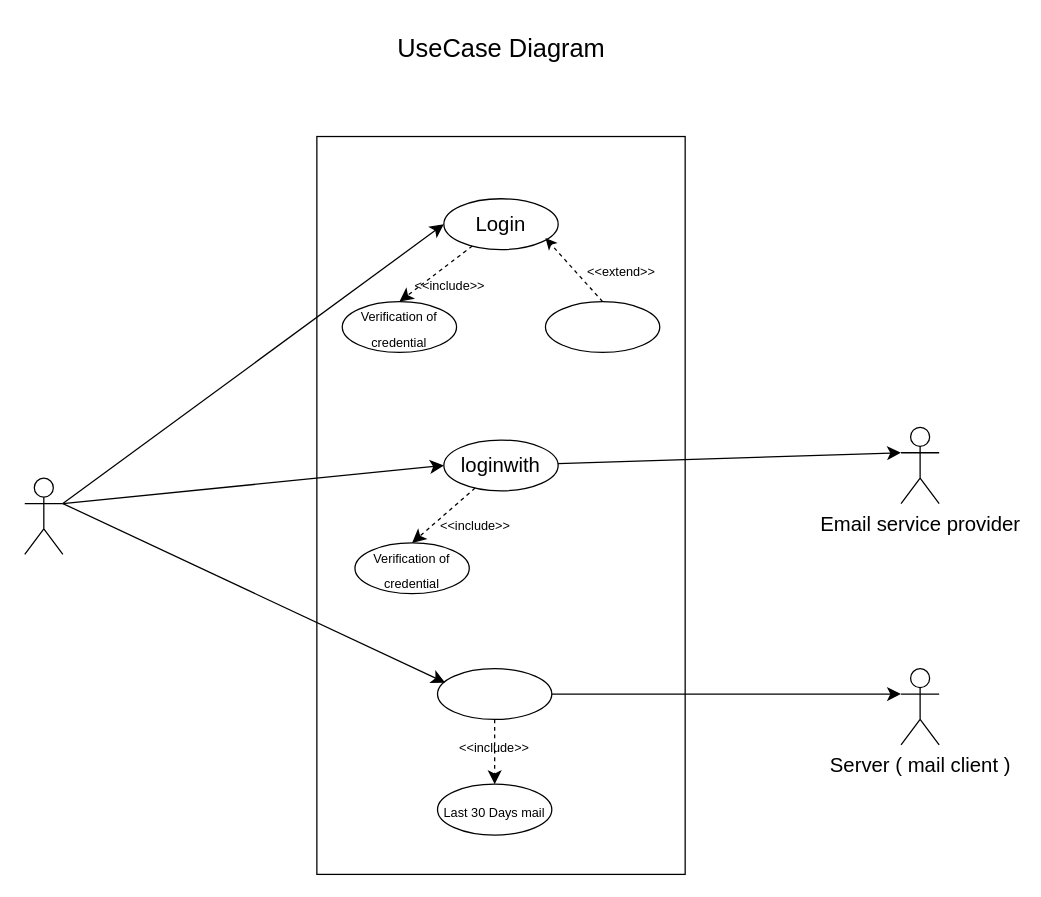
This 1041x897 diagram has some shape labels left out. The shapes that lost their labels are listed below. From the top down, each one's centre as x and y in pixels, then its label:
At point (602, 326): "Display error message".
At point (43, 515): "User".
At point (494, 693): "Display ( )".
